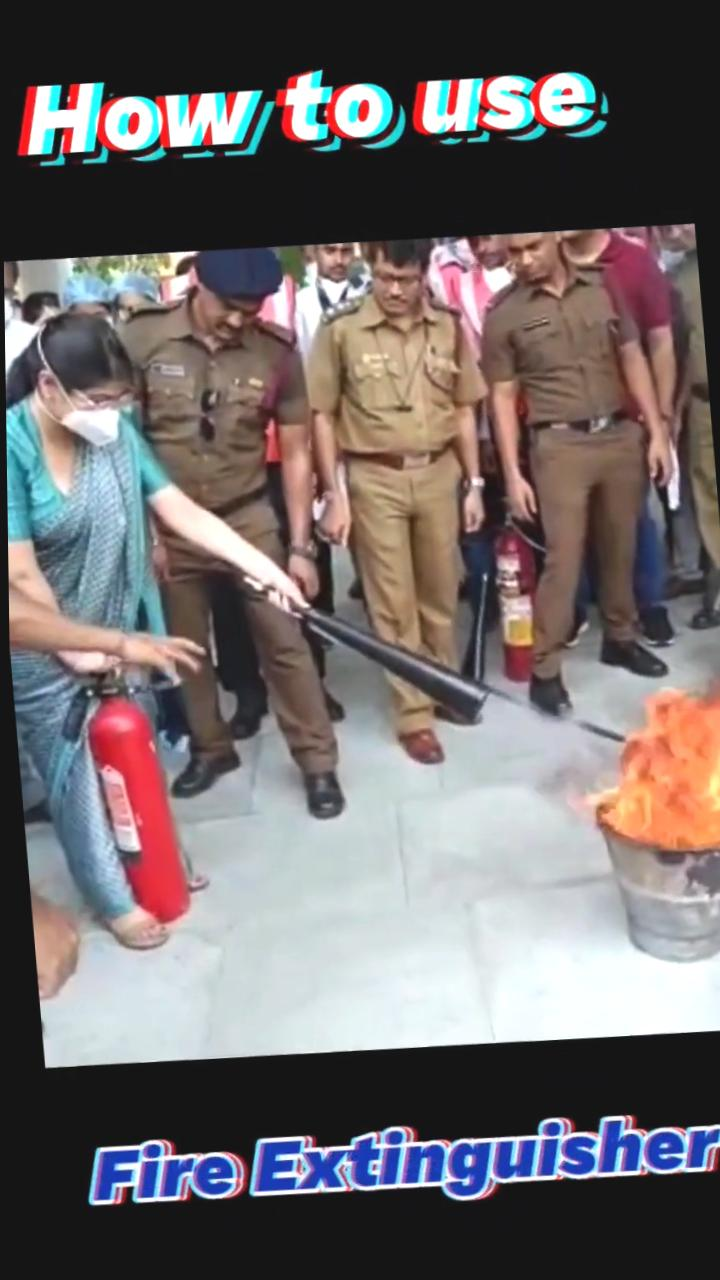FireExtinguisher: (70, 670, 199, 936), (480, 517, 550, 677)
not: (569, 674, 720, 858), (220, 248, 303, 482), (569, 217, 688, 359), (431, 241, 494, 367)
